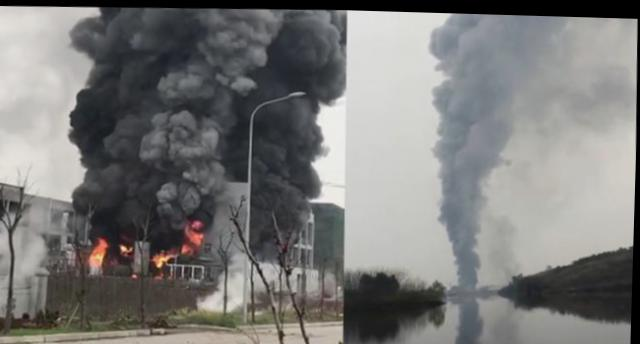fire: (89, 236, 105, 268), (184, 218, 203, 241), (152, 246, 167, 263)
smoke: (504, 12, 639, 191), (431, 10, 512, 291), (253, 6, 350, 199), (65, 87, 251, 173), (68, 3, 251, 90), (66, 171, 207, 216)
